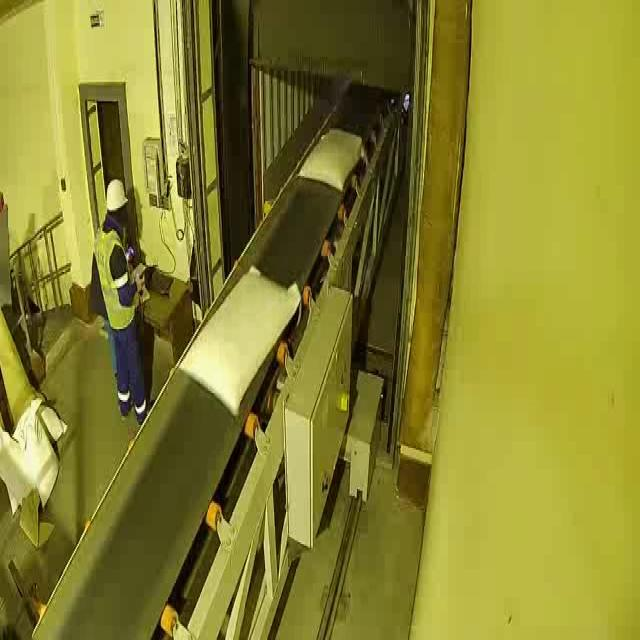bag: (181, 267, 300, 413), (296, 123, 364, 192)
